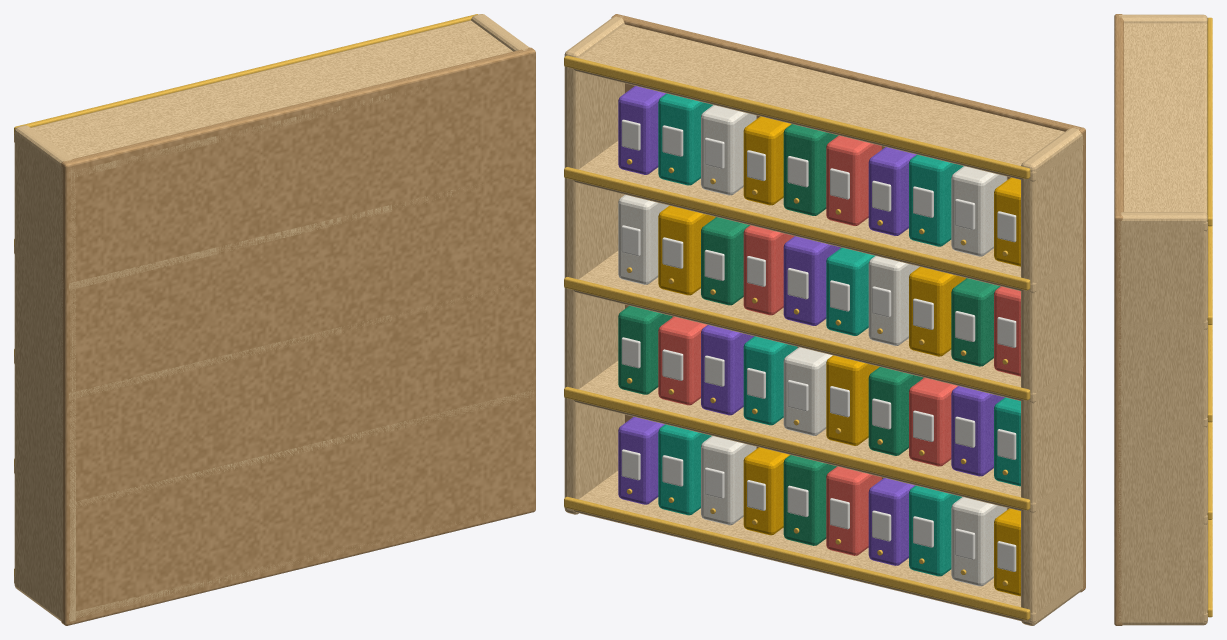
File: binder-library.glb
3 renders of one model, left to right at view 1: azimuth 30°, elevation 25°; view 2: azimuth 150°, elevation 25°; view 3: azimuth 270°, elevation 25°, orthographic. The views are drawn at different scales.
Visible parts, largest first — view 1: Library_Back, Library_Side, Library_Shelf.004, Library_Shelf_Edge.004, Library_Shelf.003, Library_Shelf.001, Library_Shelf.002, Library_Shelf, Library_Side.001; view 2: Library_Side, Library_Shelf.004, Library_Side.001, Library_Shelf.003, Library_Shelf, Library_Shelf.002, Library_Shelf.001, Library_Back, Library_Shelf_Edge.003, Library_Shelf_Edge.001, Library_Shelf_Edge.002, Library_Shelf_Edge (+41 smaller); view 3: Library_Side.001, Library_Shelf.004, Library_Back, Library_Shelf_Edge.004, Library_Side, Library_Shelf.003, Library_Shelf_Edge.003, Library_Shelf_Edge, Library_Shelf_Edge.002, Library_Shelf_Edge.001, Library_Shelf.002, Library_Shelf.001.
Part boxes in pixels (x1,y1,x2,y2): Library_Back: [61, 47, 535, 625]; Library_Side: [14, 125, 75, 621]; Library_Shelf.004: [14, 20, 512, 178]; Library_Shelf_Edge.004: [14, 14, 478, 134]; Library_Shelf.003: [14, 186, 475, 290]; Library_Shelf.001: [14, 390, 533, 508]; Library_Shelf.002: [14, 281, 531, 399]; Library_Shelf: [14, 506, 521, 619]; Library_Side.001: [471, 14, 532, 460]; Library_Side: [1021, 127, 1082, 625]; Library_Shelf.004: [564, 24, 1083, 181]; Library_Side.001: [564, 16, 624, 514]; Library_Shelf.003: [564, 141, 1083, 293]; Library_Shelf: [564, 471, 1083, 622]; Library_Shelf.002: [564, 251, 1083, 403]; Library_Shelf.001: [564, 361, 1083, 512]; Library_Back: [611, 14, 1085, 592]; Library_Shelf_Edge.003: [564, 167, 1030, 290]; Library_Shelf_Edge.001: [564, 386, 1030, 510]; Library_Shelf_Edge.002: [564, 277, 1030, 400]; Library_Shelf_Edge: [564, 496, 1030, 620]; Library_Side.001: [1118, 212, 1207, 625]; Library_Shelf.004: [1121, 23, 1207, 231]; Library_Back: [1114, 14, 1123, 625]; Library_Shelf_Edge.004: [1207, 17, 1212, 226]; Library_Side: [1119, 14, 1207, 23]; Library_Shelf.003: [1120, 320, 1207, 329]; Library_Shelf_Edge.003: [1207, 225, 1212, 324]; Library_Shelf_Edge: [1207, 519, 1212, 617]; Library_Shelf_Edge.002: [1207, 324, 1212, 422]; Library_Shelf_Edge.001: [1207, 422, 1212, 519]; Library_Shelf.002: [1121, 418, 1207, 427]; Library_Shelf.001: [1118, 515, 1207, 524].
Size of the model in its own units: 3.5 by 3.28 by 0.715.
10 materials, 10 textured.
